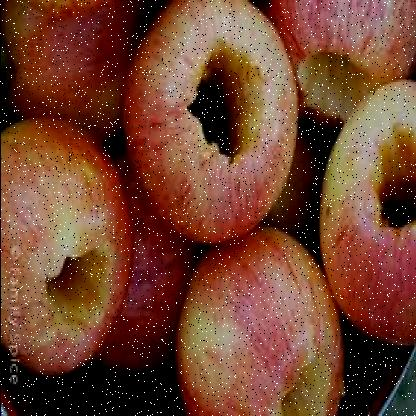damaged_apple: (122, 2, 284, 236), (3, 120, 126, 390), (183, 241, 345, 414), (326, 80, 414, 326), (292, 2, 410, 114)
